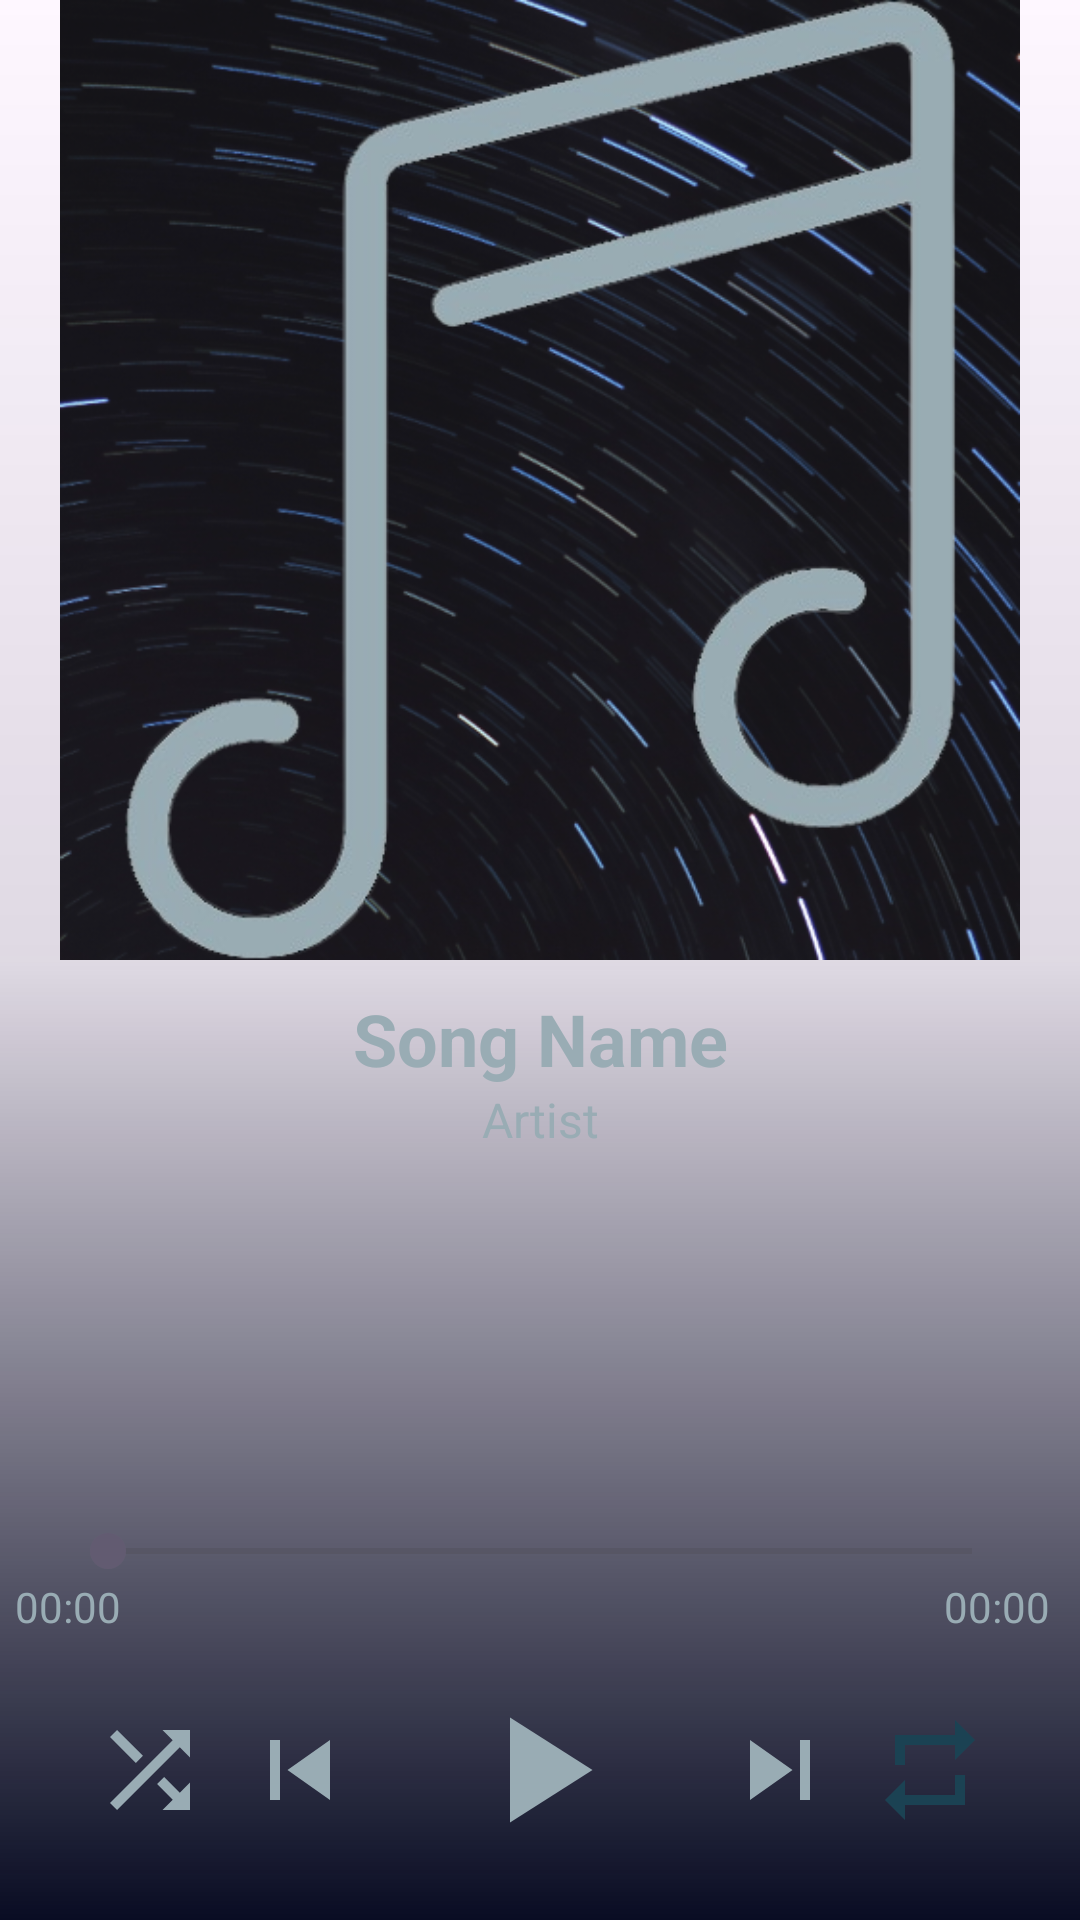

Icon click points for this 1080×1920 phone screenshot, format point (x, y):
next: point (780, 1770)
shuffle off: point (150, 1780)
skip previous: point (300, 1770)
